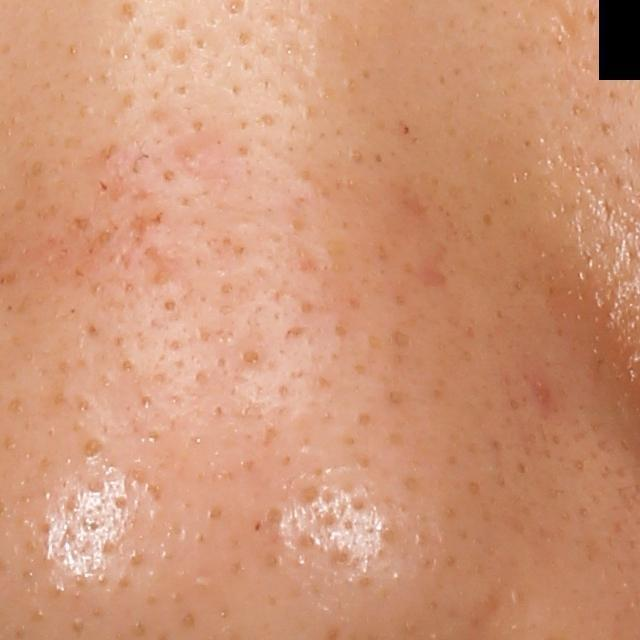atrophic_scar: (118, 210, 166, 270), (146, 243, 182, 284)
comedo: (238, 345, 265, 373), (158, 289, 182, 317), (158, 164, 179, 187)
